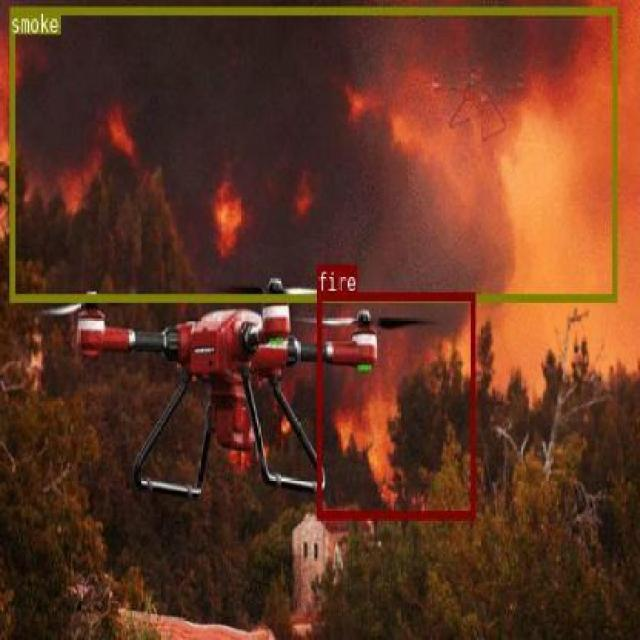Fire: (316, 291, 475, 517)
Smoke: (9, 6, 616, 300)
